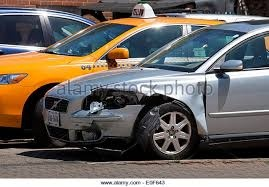Broken-glass: (82, 88, 136, 112)
Dent: (186, 82, 213, 140), (80, 115, 130, 139)
